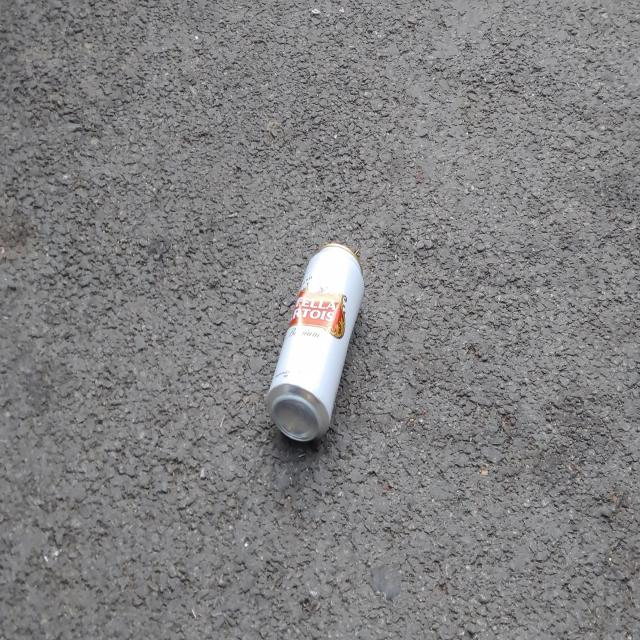can: (266, 243, 364, 442)
